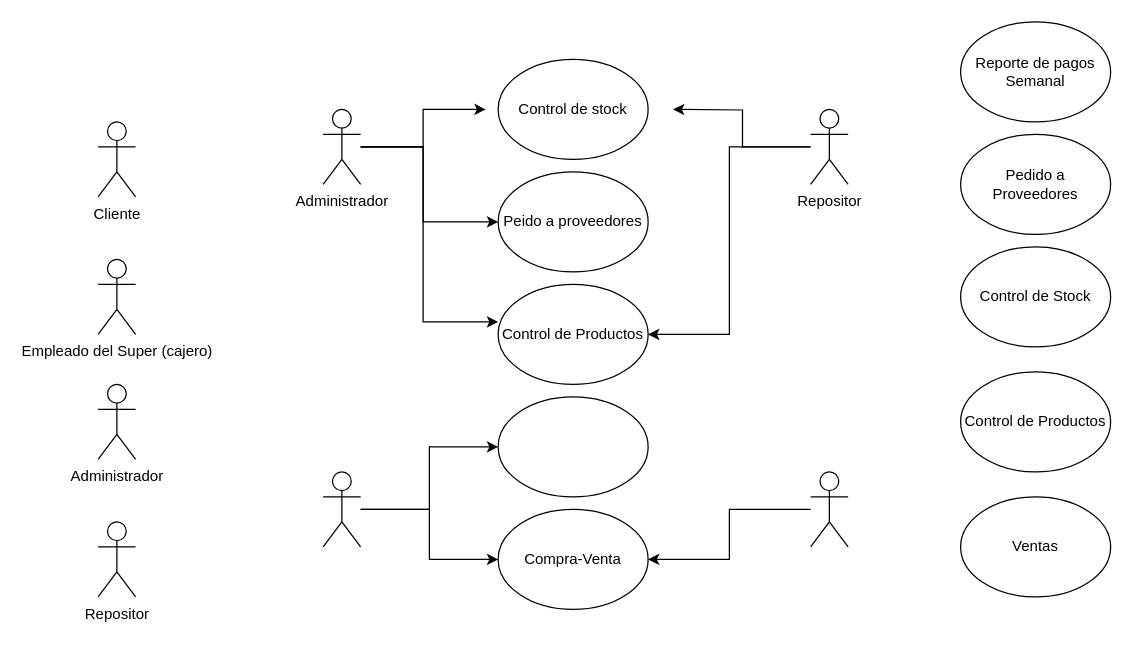
This 1133x645 diagram has some shape labels left out. The centre of each missing label's shape, as x and y in pixels:
Actor: the point at 828,509
Cajero: the point at 341,509
